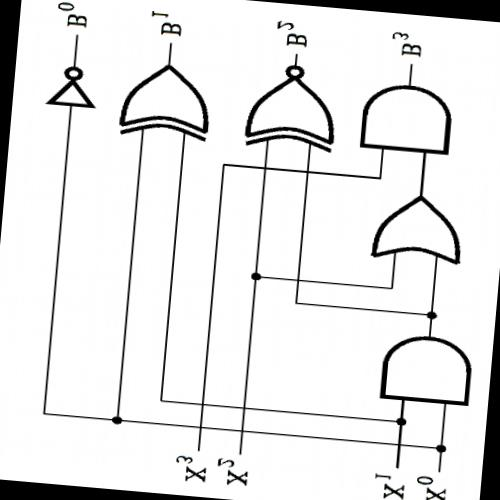and: (372, 325, 482, 410), (356, 75, 460, 160)
not: (38, 60, 104, 111)
or: (364, 185, 474, 268)
xnor: (238, 55, 348, 156)
xor: (114, 57, 218, 146)
